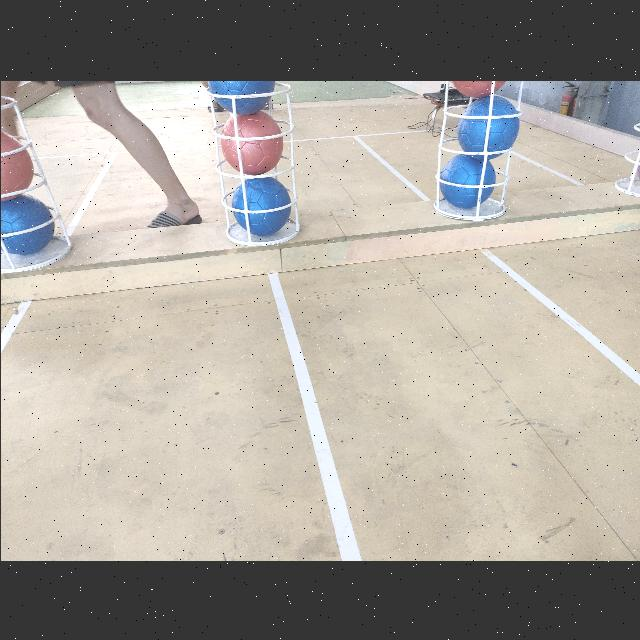B: (459, 95, 519, 157), (436, 152, 496, 208), (232, 178, 290, 235), (0, 198, 56, 255), (205, 80, 275, 116)
R: (220, 112, 284, 174), (0, 130, 34, 197)
